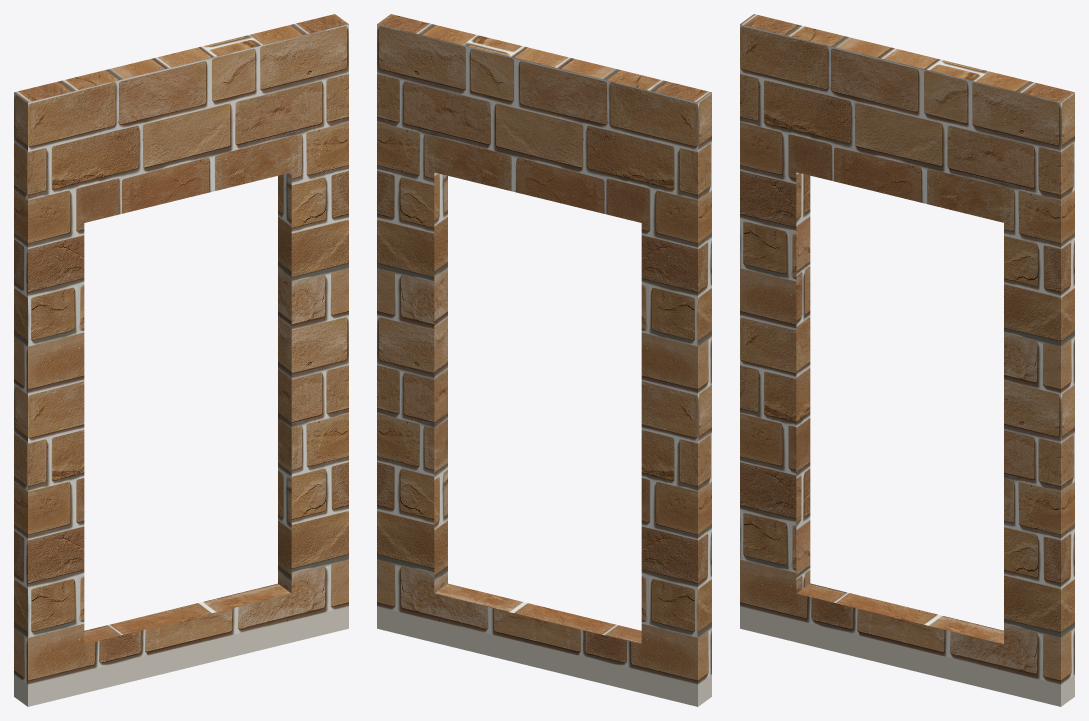
Rendered from ARC0210045.fbx.
3 views of the same model, side by side, from view 1: azimuth 30°, elevation 25°; view 2: azimuth 150°, elevation 25°; view 3: azimuth 330°, elevation 25° (orthographic).
Visible parts, largest first — view 1: smARC0210045; view 2: smARC0210045; view 3: smARC0210045.
Boxes of the visible parts, left/top/right/bottom form: smARC0210045: left=14, top=14, right=348, bottom=706; smARC0210045: left=377, top=14, right=711, bottom=706; smARC0210045: left=740, top=14, right=1074, bottom=706.
Bounding box in the file's own units: 182 × 328 × 13.67.
Materials: 1 (1 with a texture image).
